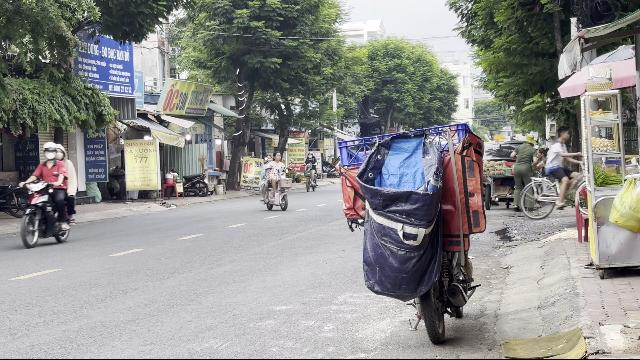helmet: (42, 141, 56, 161), (54, 142, 66, 160)
motorcyclist: (16, 141, 76, 249)
nohelmet: (555, 126, 571, 144)
